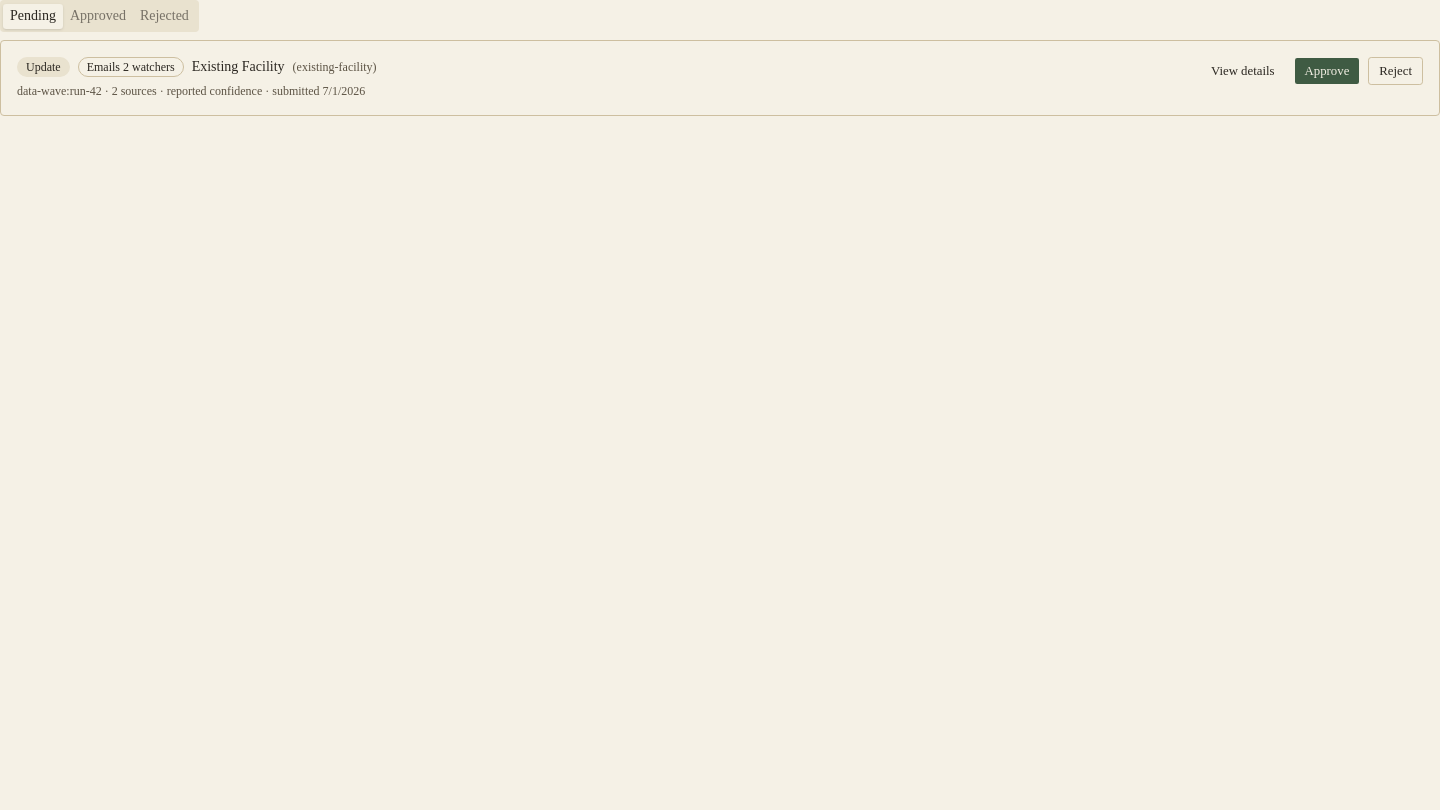
Test: SubmissionList — watcher-email notice › approves only after the dialog is confirmed
Click the button "Approve" at (1327, 71), box [1294,57,1360,85]
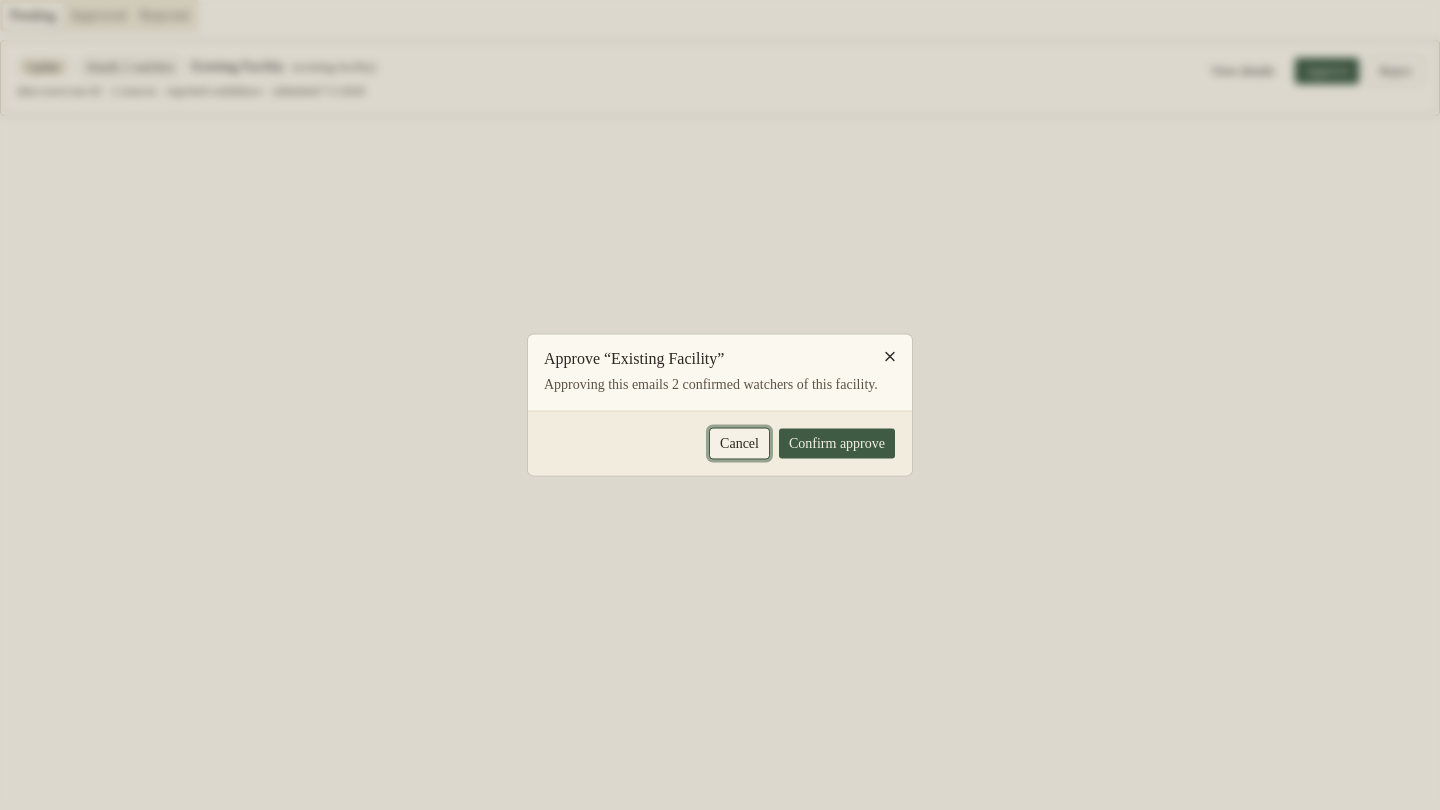
Click the button "Confirm approve" at (837, 444), box [778,428,896,460]
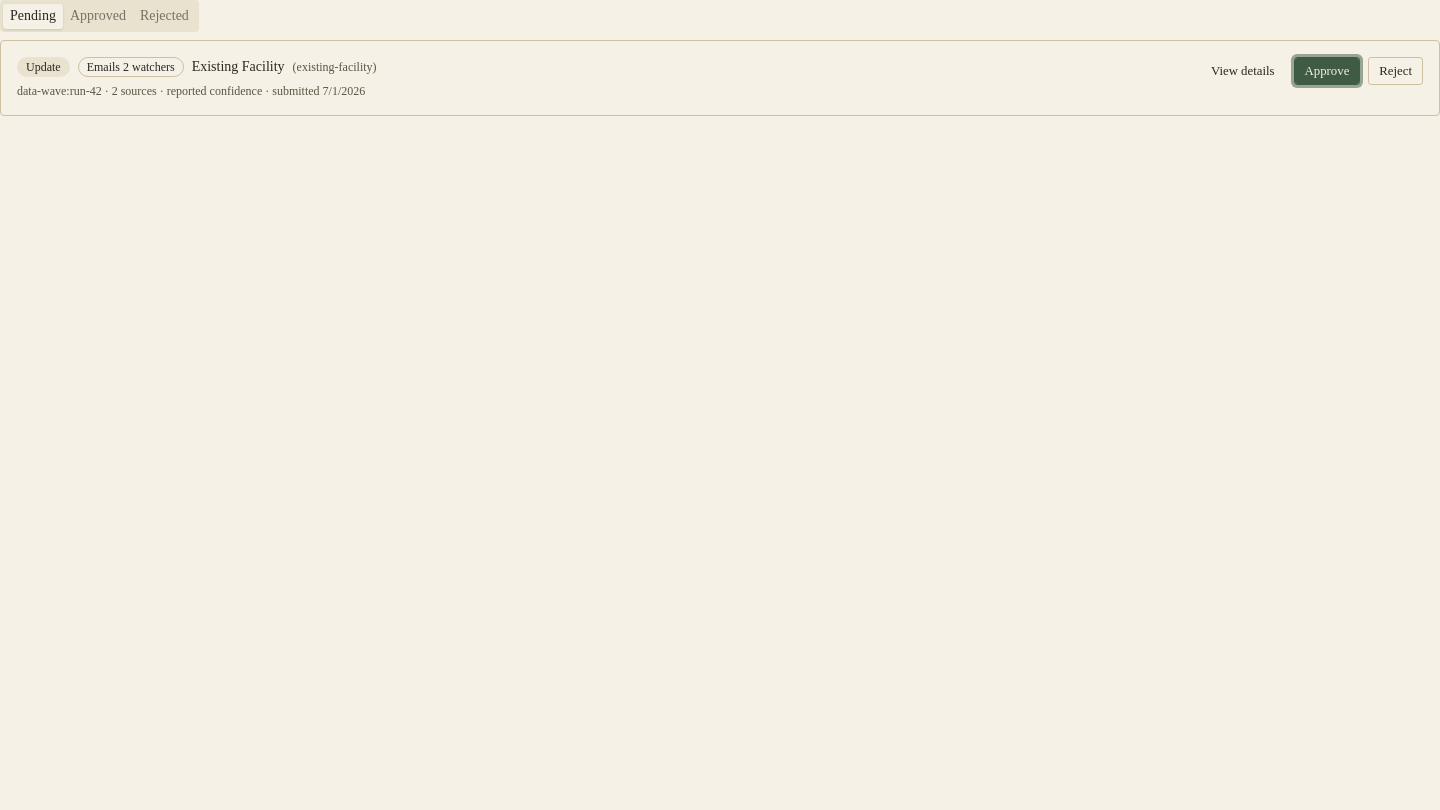
Expected: the dialog is gone
